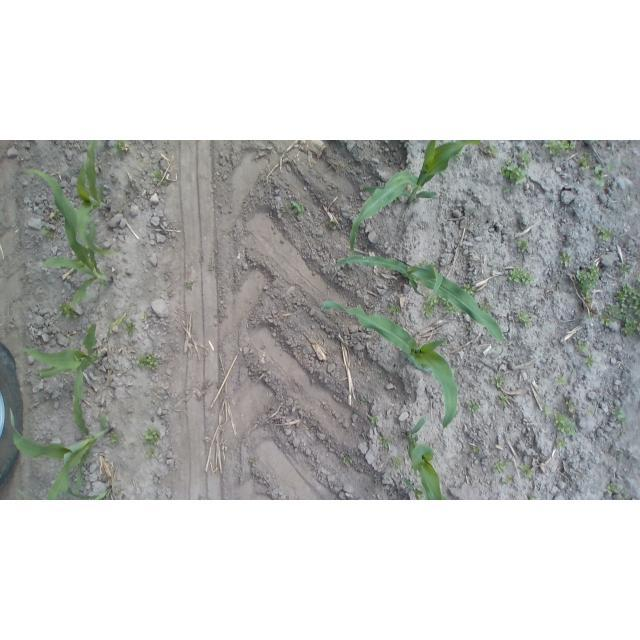Maize: (322, 297, 459, 427), (349, 140, 484, 254), (335, 254, 506, 344), (19, 167, 113, 310), (10, 409, 115, 500), (25, 324, 105, 434), (70, 140, 123, 258), (396, 416, 455, 500)
Weeds: (608, 285, 640, 336), (549, 411, 584, 443), (572, 269, 605, 300), (501, 162, 531, 188), (134, 351, 162, 371), (55, 301, 80, 319), (141, 429, 163, 448), (507, 266, 533, 282), (515, 146, 531, 170), (575, 343, 593, 364), (292, 195, 308, 218), (547, 141, 577, 153), (592, 167, 609, 186), (420, 299, 436, 318), (595, 225, 614, 241), (150, 172, 167, 189), (464, 400, 481, 416), (491, 373, 508, 389), (390, 301, 405, 318), (376, 437, 394, 451), (113, 140, 132, 153), (606, 481, 622, 496), (518, 463, 535, 477), (142, 446, 160, 459), (441, 297, 454, 314), (121, 320, 135, 335), (483, 145, 499, 156), (564, 400, 580, 411), (554, 377, 571, 387), (42, 224, 55, 237), (478, 301, 492, 313), (393, 456, 405, 469), (517, 314, 534, 323), (463, 285, 476, 296), (556, 439, 569, 450), (494, 396, 507, 406), (561, 253, 569, 268), (580, 158, 589, 171), (502, 477, 515, 486), (521, 241, 532, 251), (368, 414, 377, 426), (496, 463, 508, 472), (112, 433, 120, 444), (357, 396, 368, 404), (343, 454, 350, 465), (472, 447, 480, 455)
